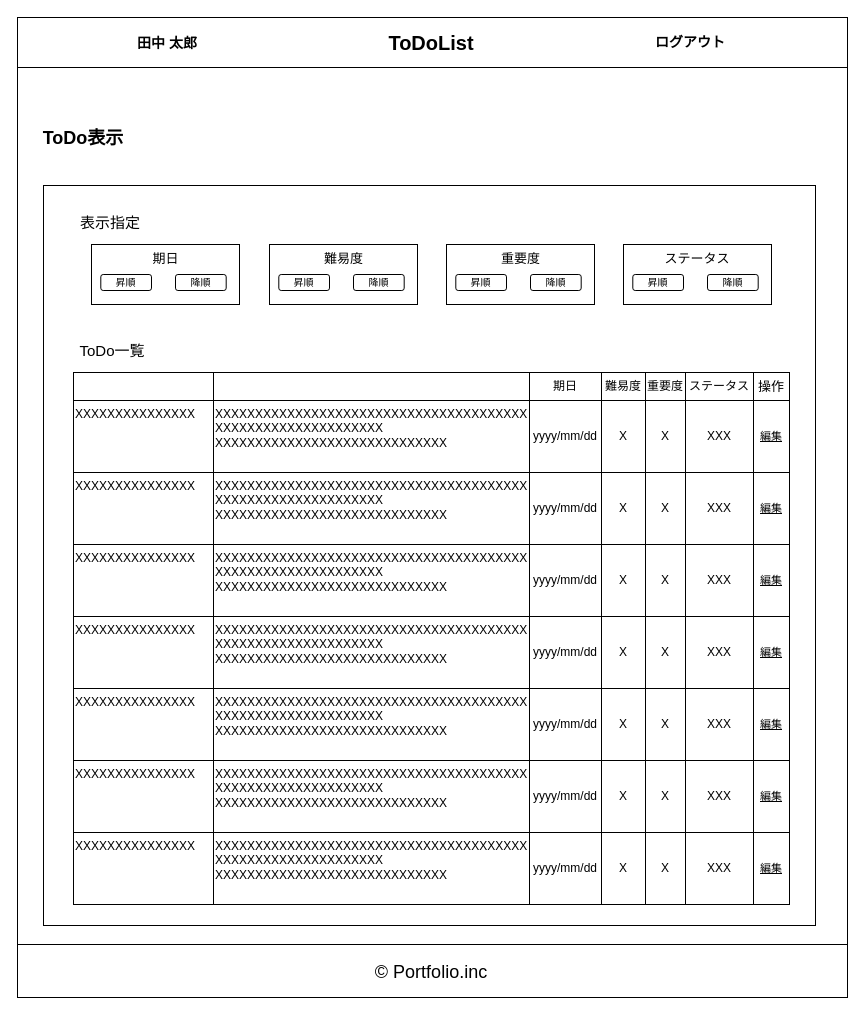
This 865x1015 diagram has some shape labels left out. The centre of each missing label's shape, as x and y in pixels:
"タイトル" belongs at [143,386].
"内容" belongs at [371,386].
